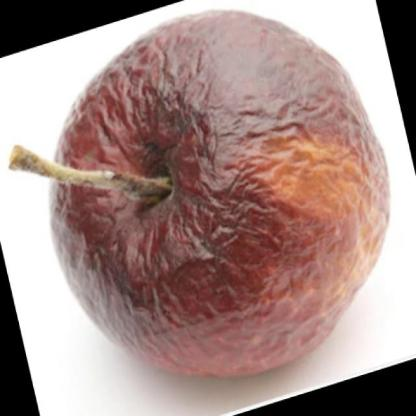defect: (48, 13, 390, 378)
